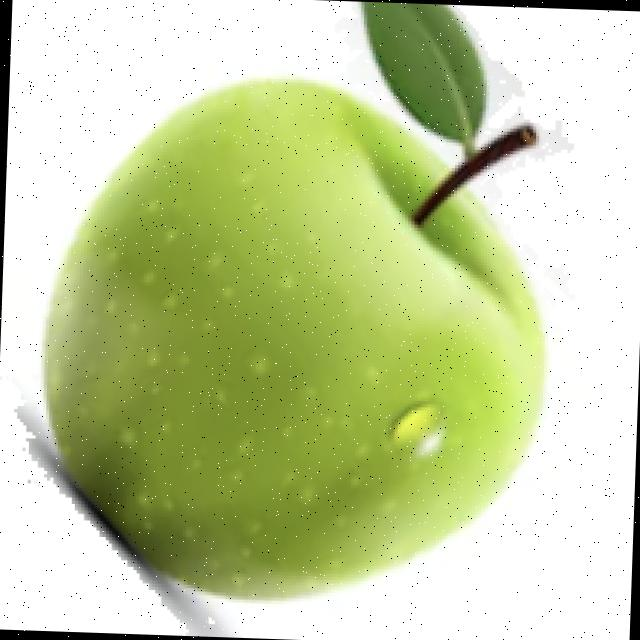apple: (13, 5, 576, 634)
